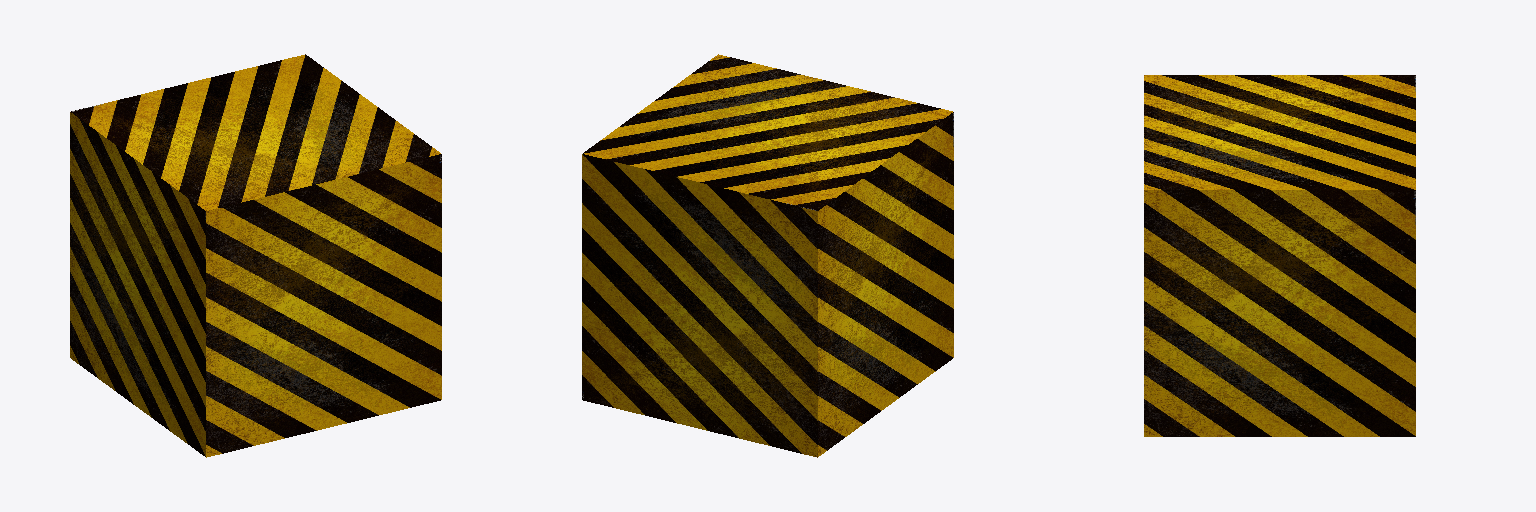
The picture shows the model from 3 angles: view 1: azimuth 30°, elevation 25°; view 2: azimuth 150°, elevation 25°; view 3: azimuth 270°, elevation 25°; orthographic projection.
Visible parts, largest first — view 1: Cube; view 2: Cube; view 3: Cube.
Part boxes in pixels (x1,y1,x2,y2): Cube: (70,54,441,457); Cube: (582,54,953,457); Cube: (1144,75,1415,436).
Size of the model in its own units: 0.3 by 0.3 by 0.3.
1 materials, 1 textured.